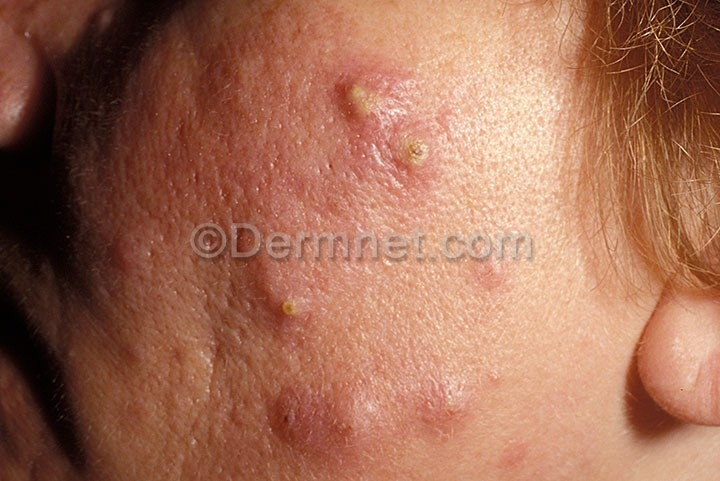Acne: (118, 78, 508, 438)
